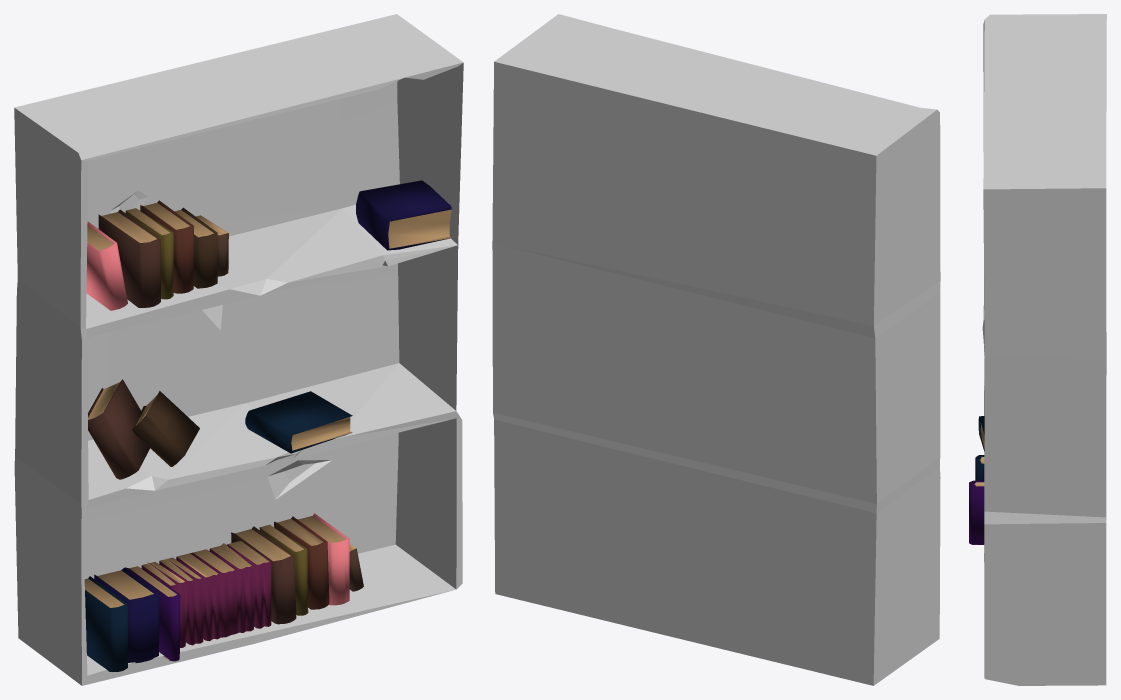
Rendered from Bookshelf002.fbx.
3 renders of one model, left to right at view 1: azimuth 30°, elevation 25°; view 2: azimuth 150°, elevation 25°; view 3: azimuth 270°, elevation 25°, orthographic. The views are drawn at different scales.
Parts seen in each view (by area): view 1: Bookshelf Variation, Bookshelf_Contents.001; view 2: Bookshelf Variation; view 3: Bookshelf Variation, Bookshelf_Contents.001.
Part boxes in pixels (<box>): Bookshelf Variation: <box>14,14,463,685</box>; Bookshelf_Contents.001: <box>84,180,451,671</box>; Bookshelf Variation: <box>492,14,940,685</box>; Bookshelf Variation: <box>982,14,1106,685</box>; Bookshelf_Contents.001: <box>969,416,984,544</box>.
Size of the model in its own units: 2.27 by 3 by 0.7527.
